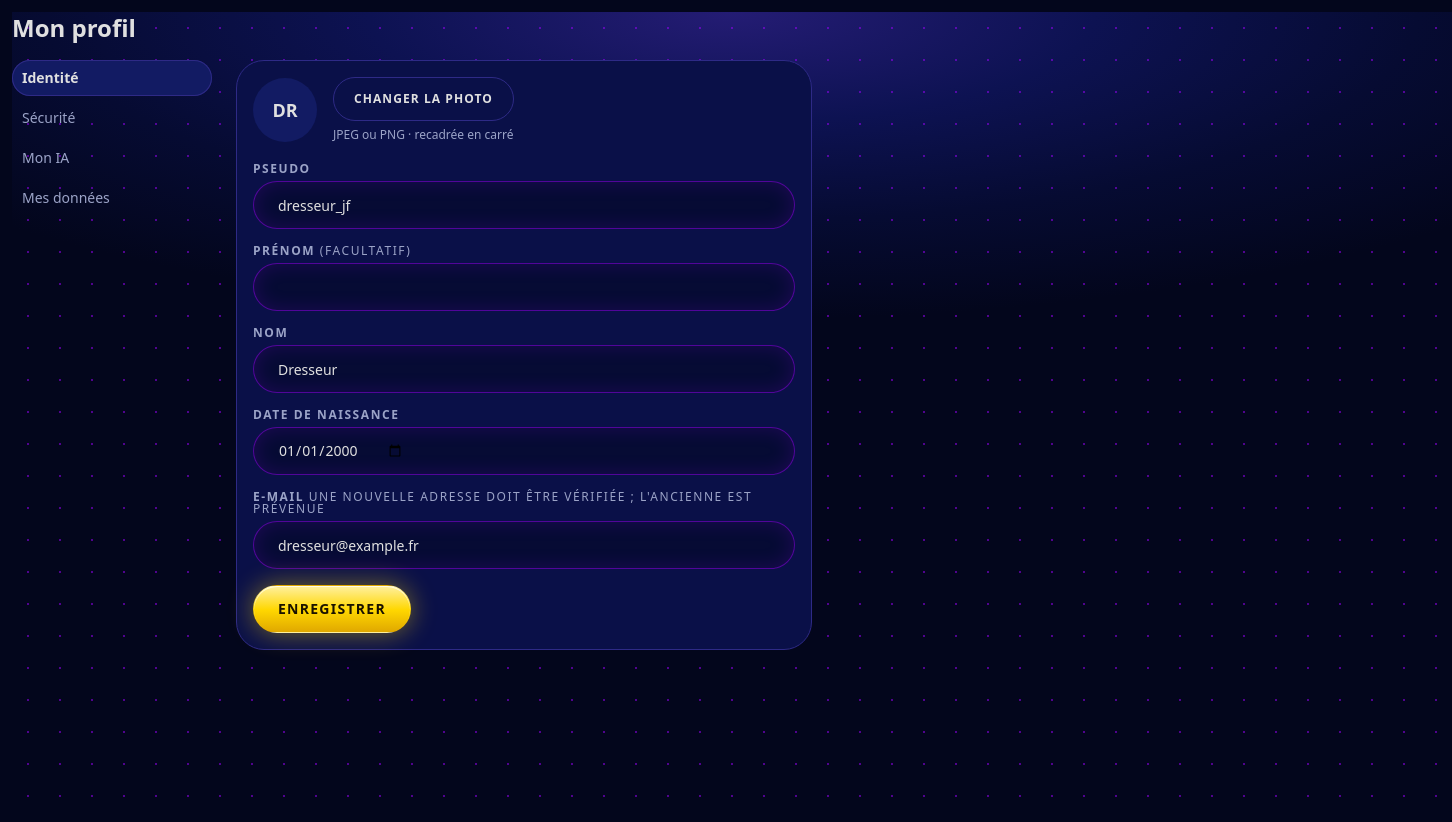
ProfilPage › passe à l'onglet Sécurité et liste les sessions actives
Expected: the field showing "dresseur_jf" is shown, [253,181,795,229]
What coordinates should you click on to do the following:
click the button "Sécurité"
I would click on:
 (112, 118)
Its box is [12,100,212,136].
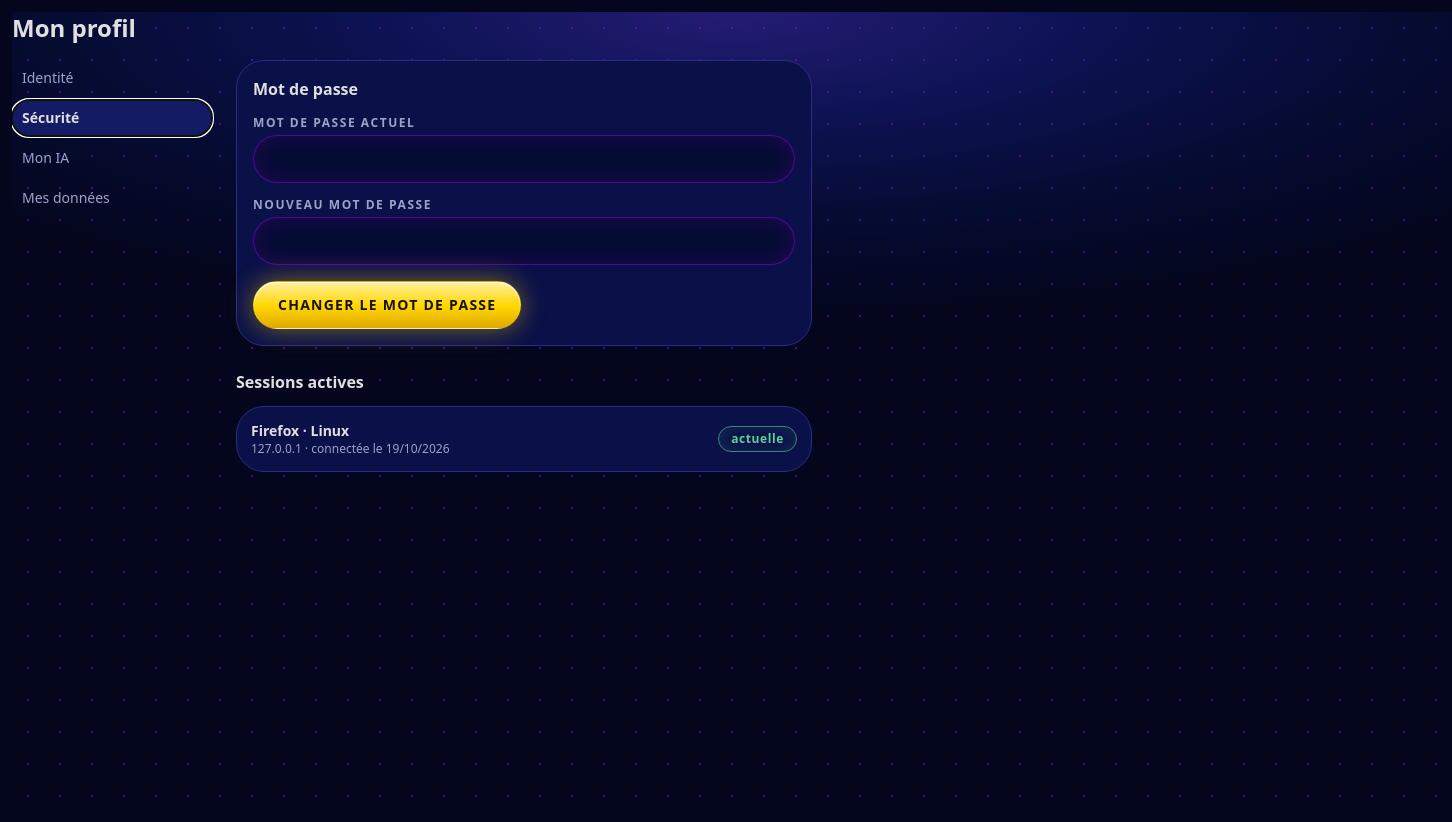
Expected: the text "Firefox · Linux" is shown, [251,421,349,440]
Expected: the text "actuelle" is shown, [718,426,797,452]
